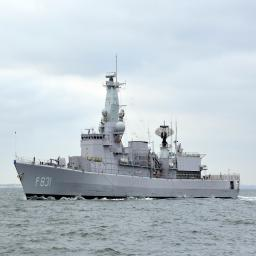Fragata: (12, 61, 243, 203)
